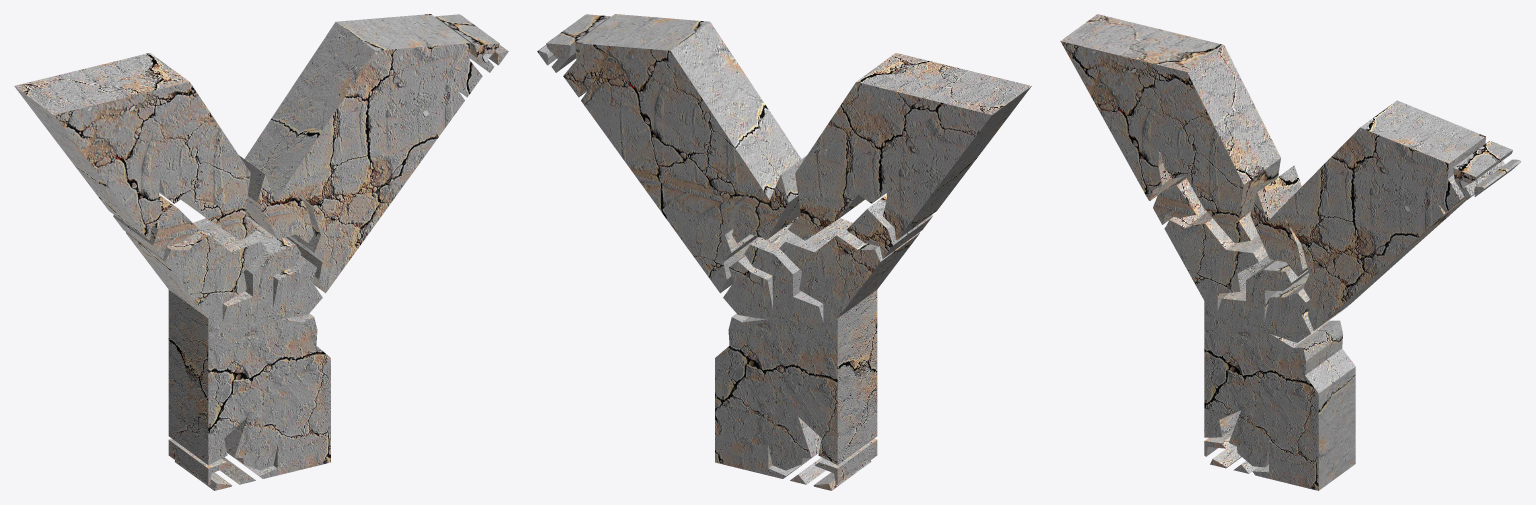
3 views of the same model, side by side, from view 1: azimuth 30°, elevation 25°; view 2: azimuth 150°, elevation 25°; view 3: azimuth 330°, elevation 25° (orthographic). The views are drawn at different scales.
Parts seen in each view (by area): view 1: Y; view 2: Y; view 3: Y.
Boxes of the visible parts, <box> form: Y: <box>14,14,508,490</box>; Y: <box>537,14,1031,490</box>; Y: <box>1060,14,1521,490</box>.
Bounding box in the file's own units: 99.09 × 86.36 × 15.
Materials: 1 (1 with a texture image).
